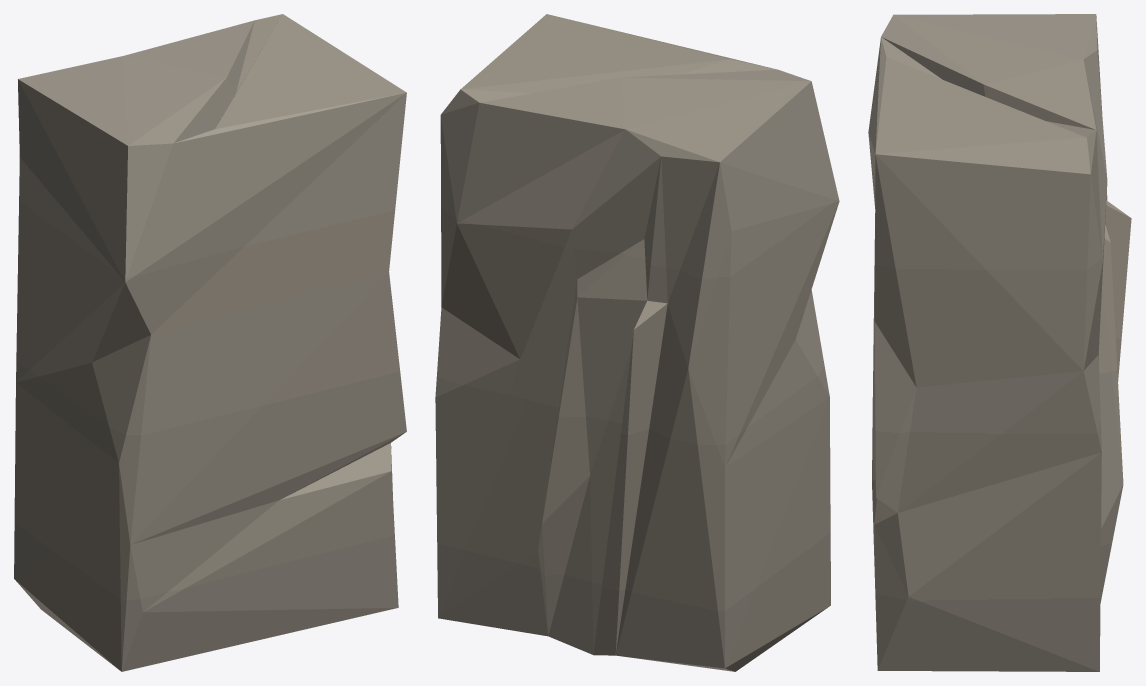
File: YN_Pillar8.fbx
The picture shows the model from 3 angles, left to right: view 1: azimuth 30°, elevation 25°; view 2: azimuth 150°, elevation 25°; view 3: azimuth 270°, elevation 25°; orthographic projection.
Parts seen in each view (by area): view 1: Pillar8; view 2: Pillar8; view 3: Pillar8.
Boxes of the visible parts, x1,y1,x2,y2 form: Pillar8: (14, 14, 406, 671); Pillar8: (435, 14, 839, 671); Pillar8: (868, 14, 1131, 671).
Size of the model in its own units: 1.33 by 2.32 by 1.04.
